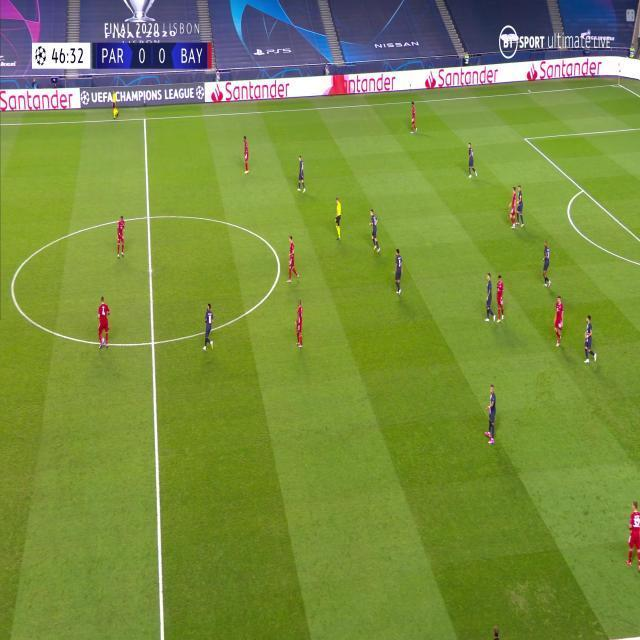player: (624, 500, 640, 571), (483, 384, 498, 445), (97, 294, 111, 351), (582, 314, 597, 365), (552, 294, 565, 348), (286, 235, 300, 283), (203, 302, 215, 352), (484, 271, 495, 323), (294, 299, 305, 349), (393, 247, 404, 296), (541, 239, 552, 288), (368, 208, 380, 252), (495, 274, 506, 322), (115, 214, 126, 259), (510, 185, 520, 229), (296, 154, 306, 194), (514, 186, 523, 228), (467, 142, 477, 179), (242, 135, 251, 174), (410, 100, 418, 134)
referee: (333, 196, 343, 240), (111, 91, 119, 120)
